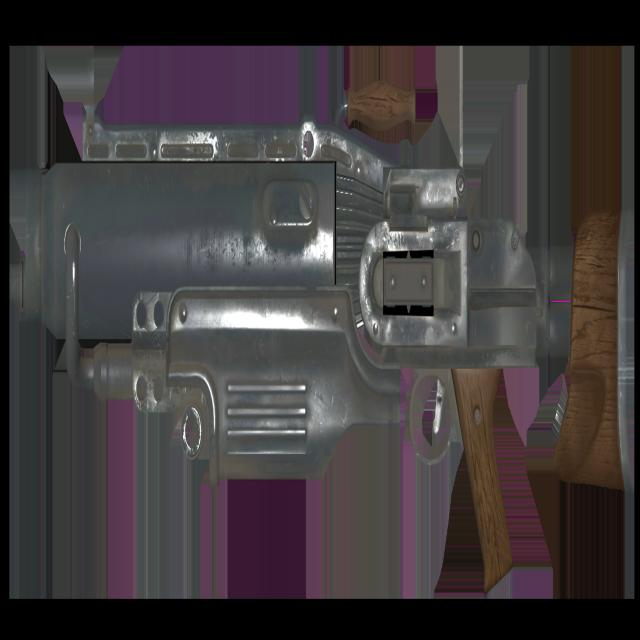Weapon: (6, 36, 640, 609)
